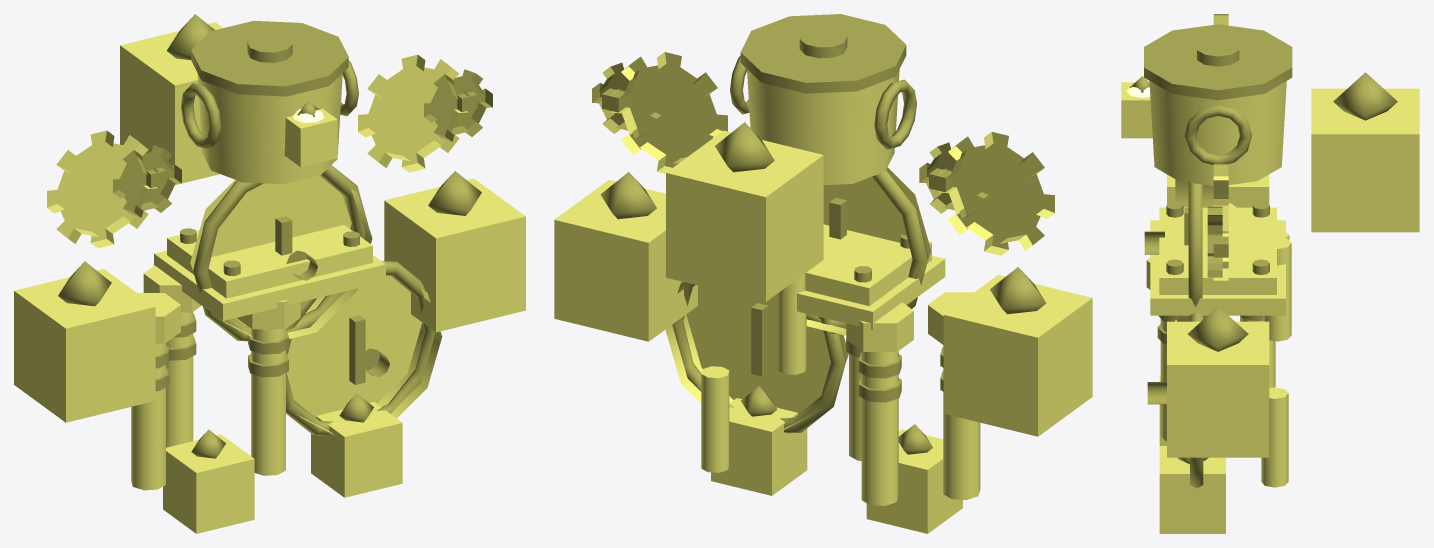
Rendered from golem_030.glb.
3 renders of one model, left to right at view 1: azimuth 30°, elevation 25°; view 2: azimuth 150°, elevation 25°; view 3: azimuth 270°, elevation 25°, orthographic. The views are drawn at different scales.
Visible parts, largest first — view 1: Body, Detail; view 2: Body, Detail; view 3: Body, Detail.
Boxes of the visible parts, x1,y1,x2,y2 form: Body: [14, 22, 525, 533]; Detail: [58, 14, 492, 458]; Body: [554, 52, 1092, 533]; Detail: [592, 14, 1046, 454]; Body: [1121, 14, 1419, 533]; Detail: [1130, 24, 1397, 488].
Bounding box in the file's own units: 1.33 × 1.23 × 0.7582.
